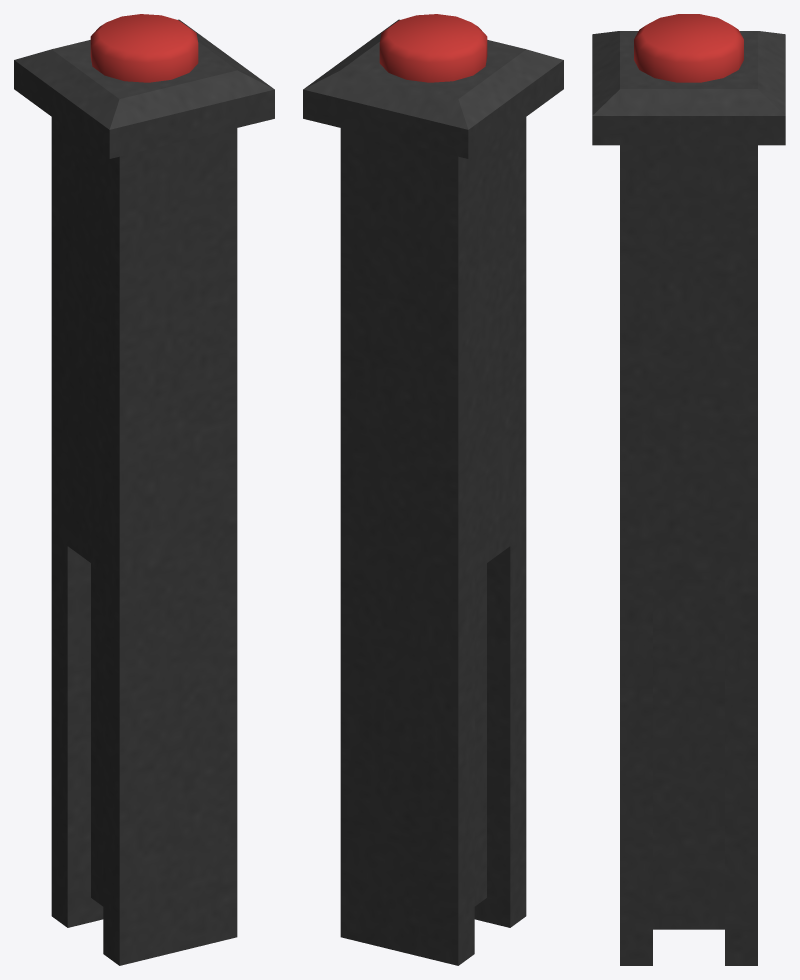
File: 电梯按钮更新.fbx
3 views of the same model, side by side, from view 1: azimuth 30°, elevation 25°; view 2: azimuth 150°, elevation 25°; view 3: azimuth 270°, elevation 25° (orthographic).
Visible parts, largest first — view 1: 电梯_按钮.001, 电梯_按钮_1; view 2: 电梯_按钮.001, 电梯_按钮_1; view 3: 电梯_按钮.001, 电梯_按钮_1.
Part boxes in pixels (<box>): 电梯_按钮.001: <box>14,19,274,965</box>; 电梯_按钮_1: <box>90,14,198,82</box>; 电梯_按钮.001: <box>303,19,563,965</box>; 电梯_按钮_1: <box>379,14,487,82</box>; 电梯_按钮.001: <box>592,31,785,965</box>; 电梯_按钮_1: <box>634,14,743,82</box>.
Bounding box in the file's own units: 42.07 × 217 × 42.07.
